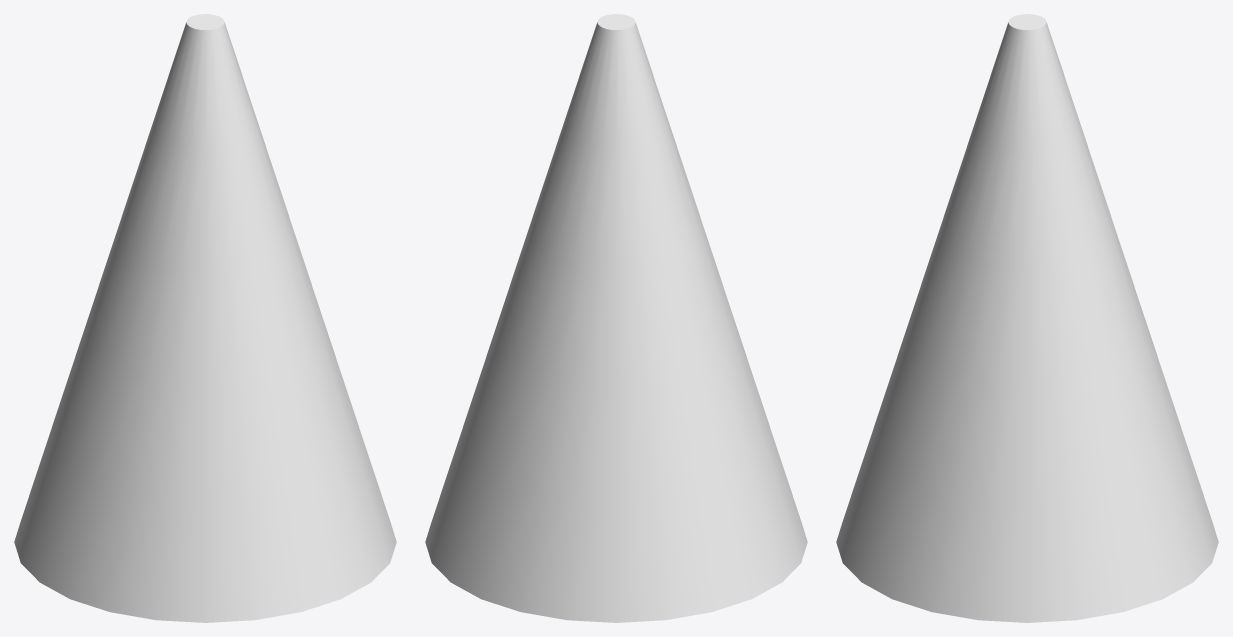
Rendered from LightConeV2.FBX.
3 views of the same model, side by side, from view 1: azimuth 30°, elevation 25°; view 2: azimuth 150°, elevation 25°; view 3: azimuth 270°, elevation 25° (orthographic).
Parts seen in each view (by area): view 1: LightCone; view 2: LightCone; view 3: LightCone.
Part boxes in pixels (<box>): LightCone: <box>14,14,396,622</box>; LightCone: <box>425,14,807,622</box>; LightCone: <box>836,14,1218,622</box>.
Bounding box in the file's own units: 78.74 × 118 × 78.74.
2 materials, 2 textured.
